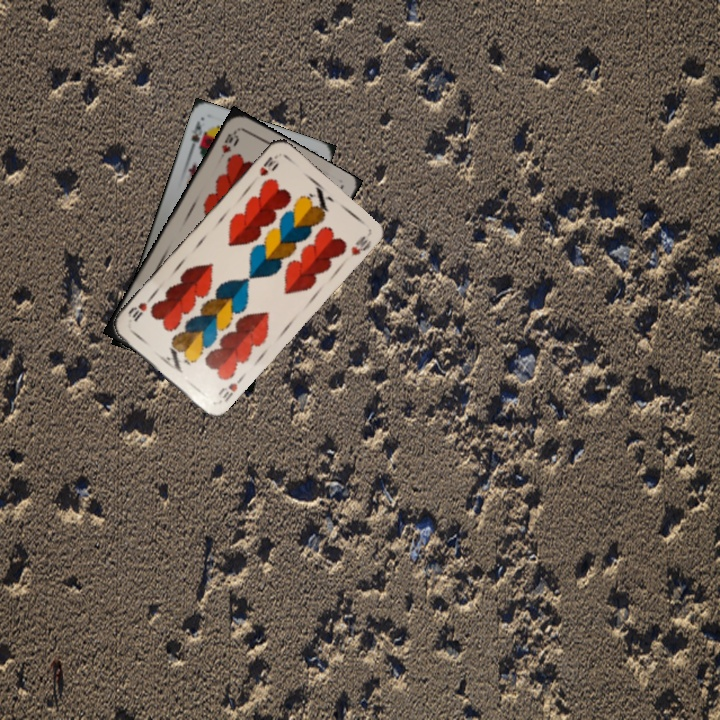H10: (214, 373, 246, 405), (255, 151, 282, 179), (217, 126, 242, 156)
SK: (185, 117, 208, 155)
